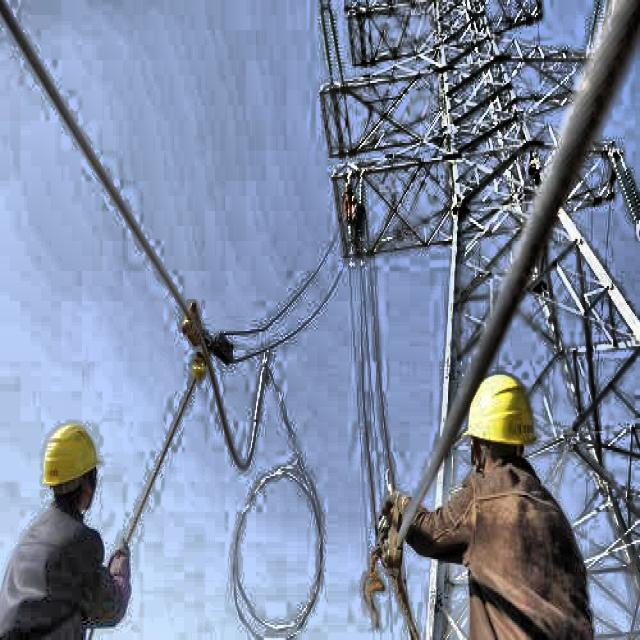helmet: (461, 369, 539, 497), (37, 410, 106, 527)
